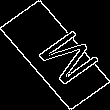M_SW: (18, 21, 92, 89)
